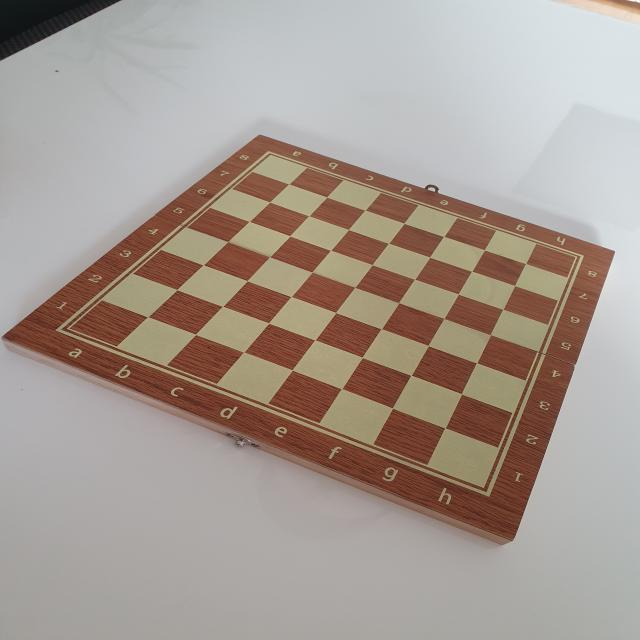chess-table-corners: (464, 478, 504, 508), (38, 318, 80, 346), (562, 246, 596, 269), (254, 145, 288, 163)
